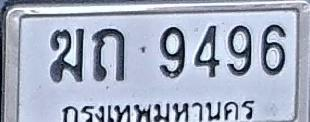4: (194, 25, 219, 78)
6: (261, 24, 286, 76)
9: (159, 26, 185, 78), (228, 24, 252, 76)
A06: (50, 28, 84, 82)
A22: (92, 28, 126, 81)
BKK: (59, 97, 255, 122)
